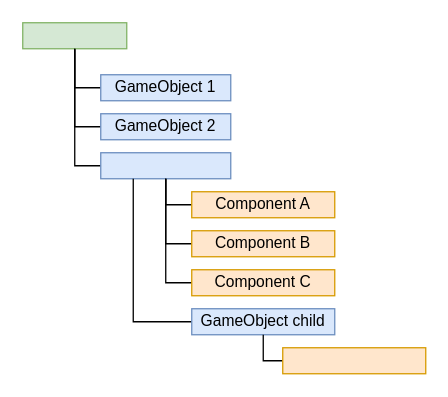
This 448x397 diagram has some shape labels left out. The centre of each missing label's shape, as x and y in pixels:
"Component D" belongs at point (353, 360).
"GameObject 3" belongs at point (165, 165).
"Scene" belongs at point (74, 35).
